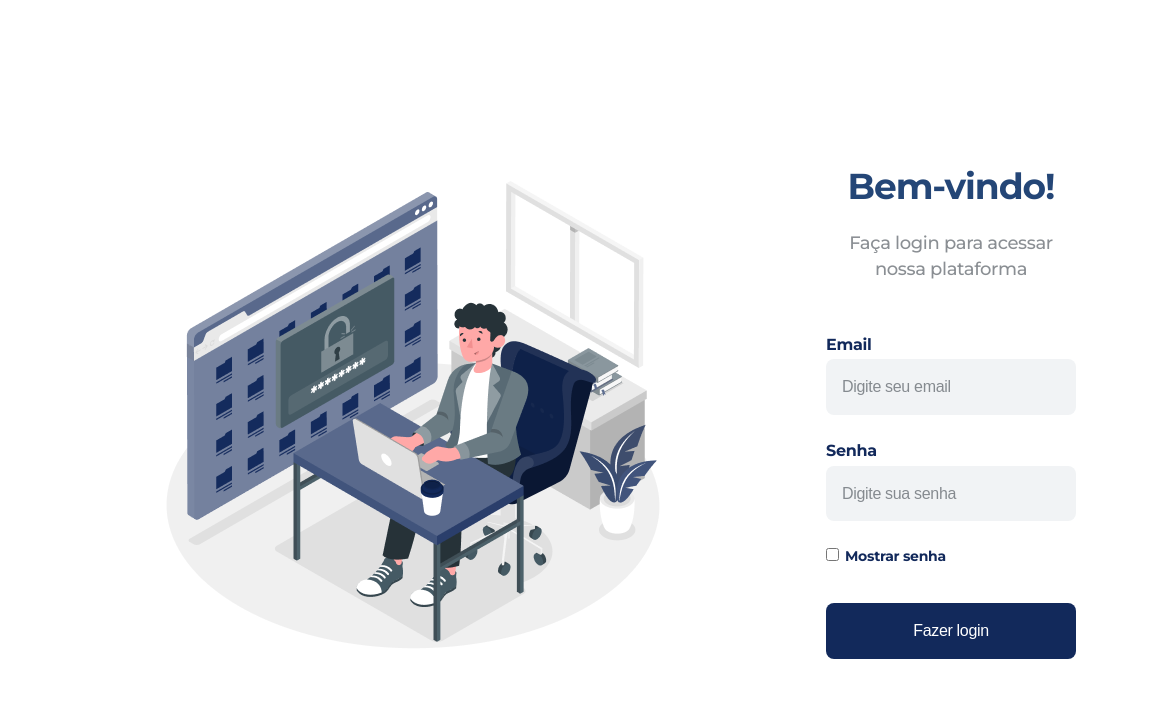
Redireciona para tela de listagem › Redireciona corretamente ao clicar em "Voltar"
This screenshot has width=1152, height=720.
Step 1. Type "email@email.com" into the field labelled "Email" → (951, 387), box top-left (826, 359), bottom-right (1076, 415)
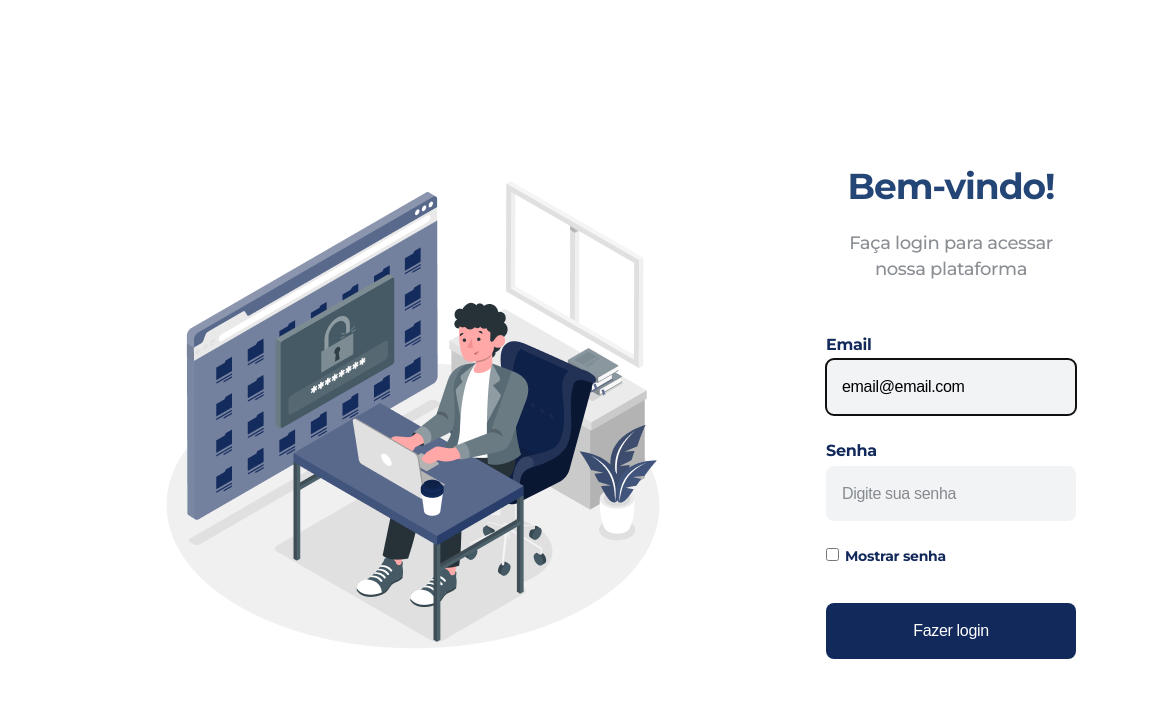
Step 2. Type "123456" into the password field labelled "Senha" → (951, 494), box top-left (826, 466), bottom-right (1076, 521)
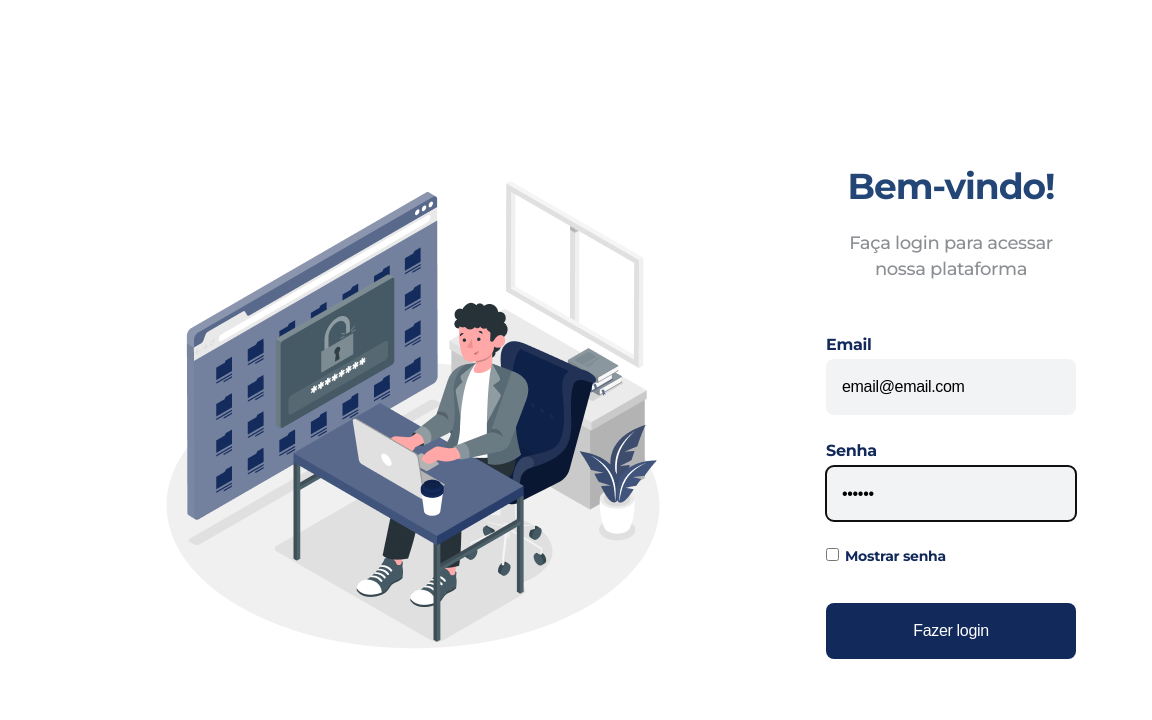
Step 3. Click the button "Fazer login" → click(951, 631), box top-left (826, 603), bottom-right (1076, 659)
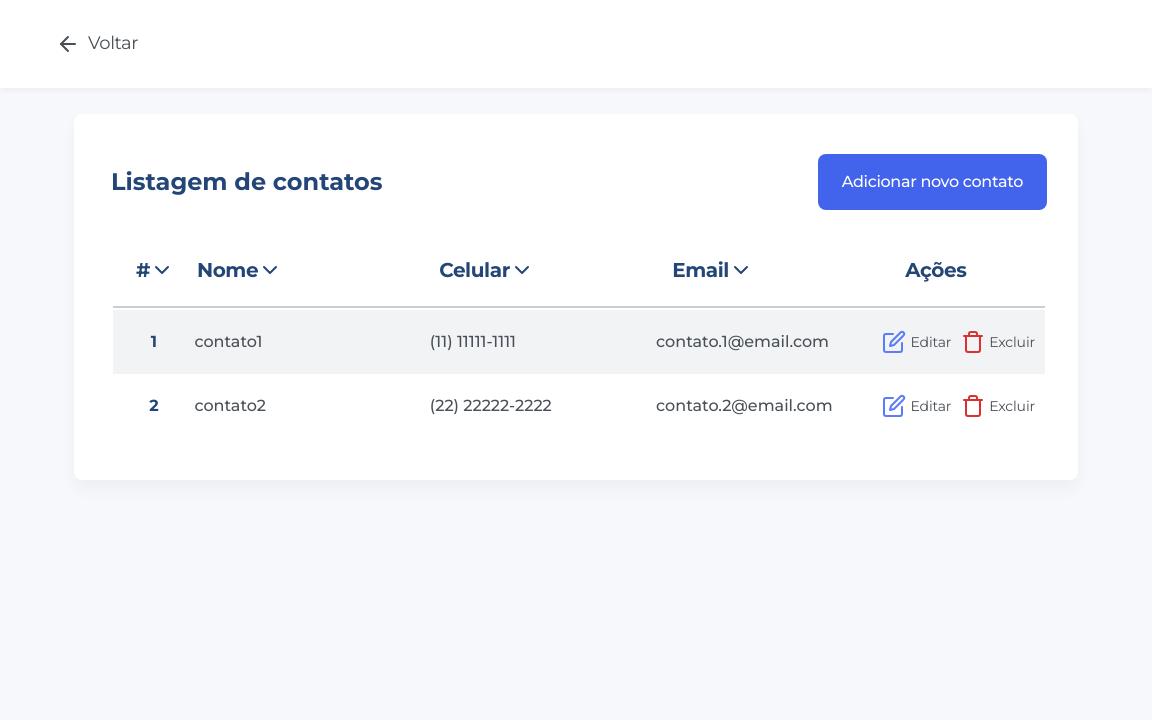
Now the link "Adicionar novo contato" is shown
Step 4. Click the link "Adicionar novo contato" → click(932, 182), box top-left (818, 154), bottom-right (1047, 210)
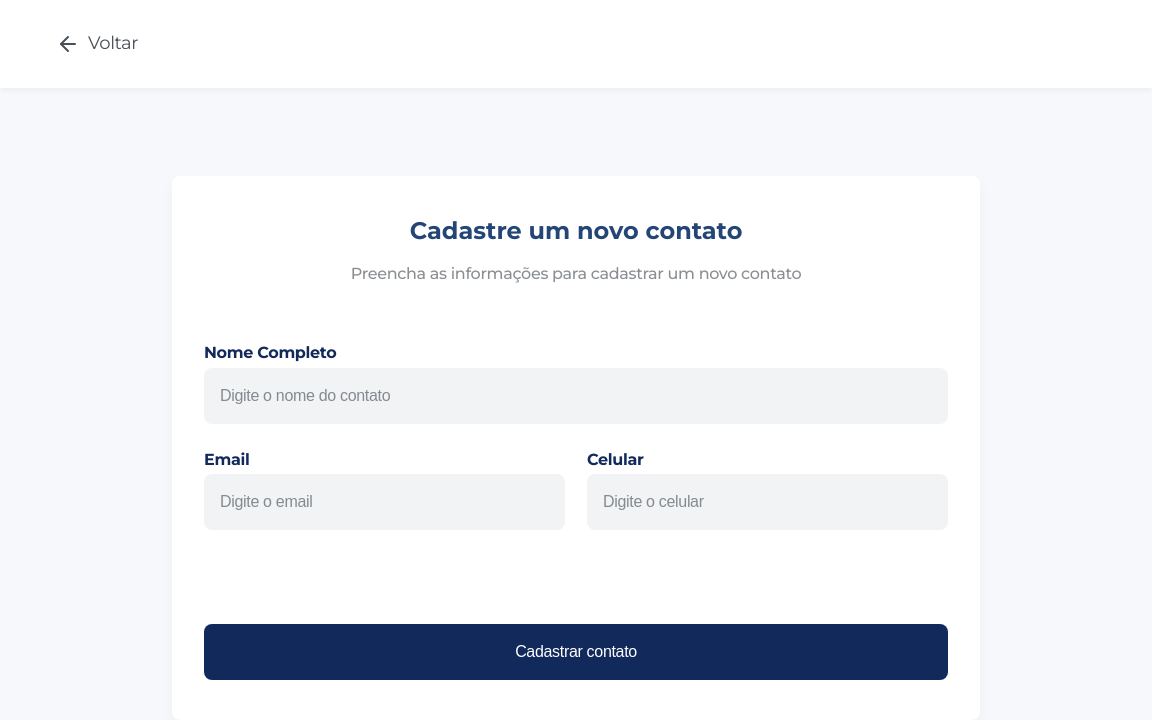
Now the link "Voltar" is shown
Now the heading "Cadastre um novo contato" is shown, box top-left (410, 216), bottom-right (742, 245)
Step 5. Click the link "Voltar" → click(97, 44), box top-left (56, 31), bottom-right (138, 57)
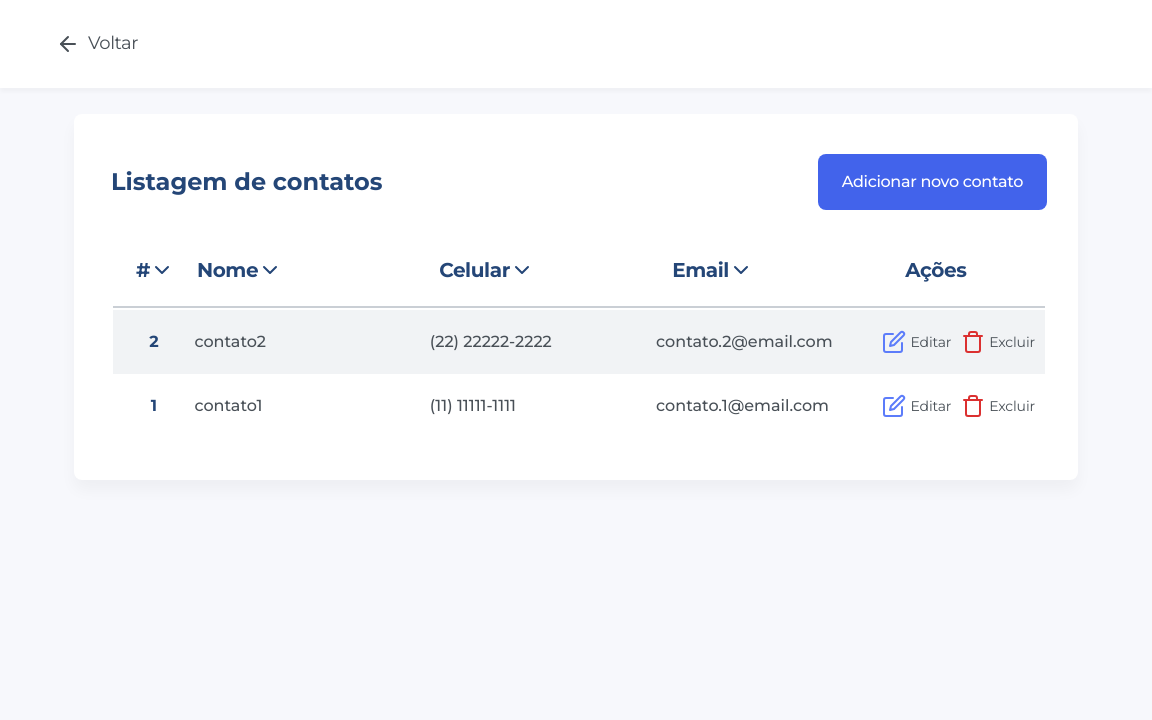
Now the link "Adicionar novo contato" is shown, box top-left (818, 154), bottom-right (1047, 210)
